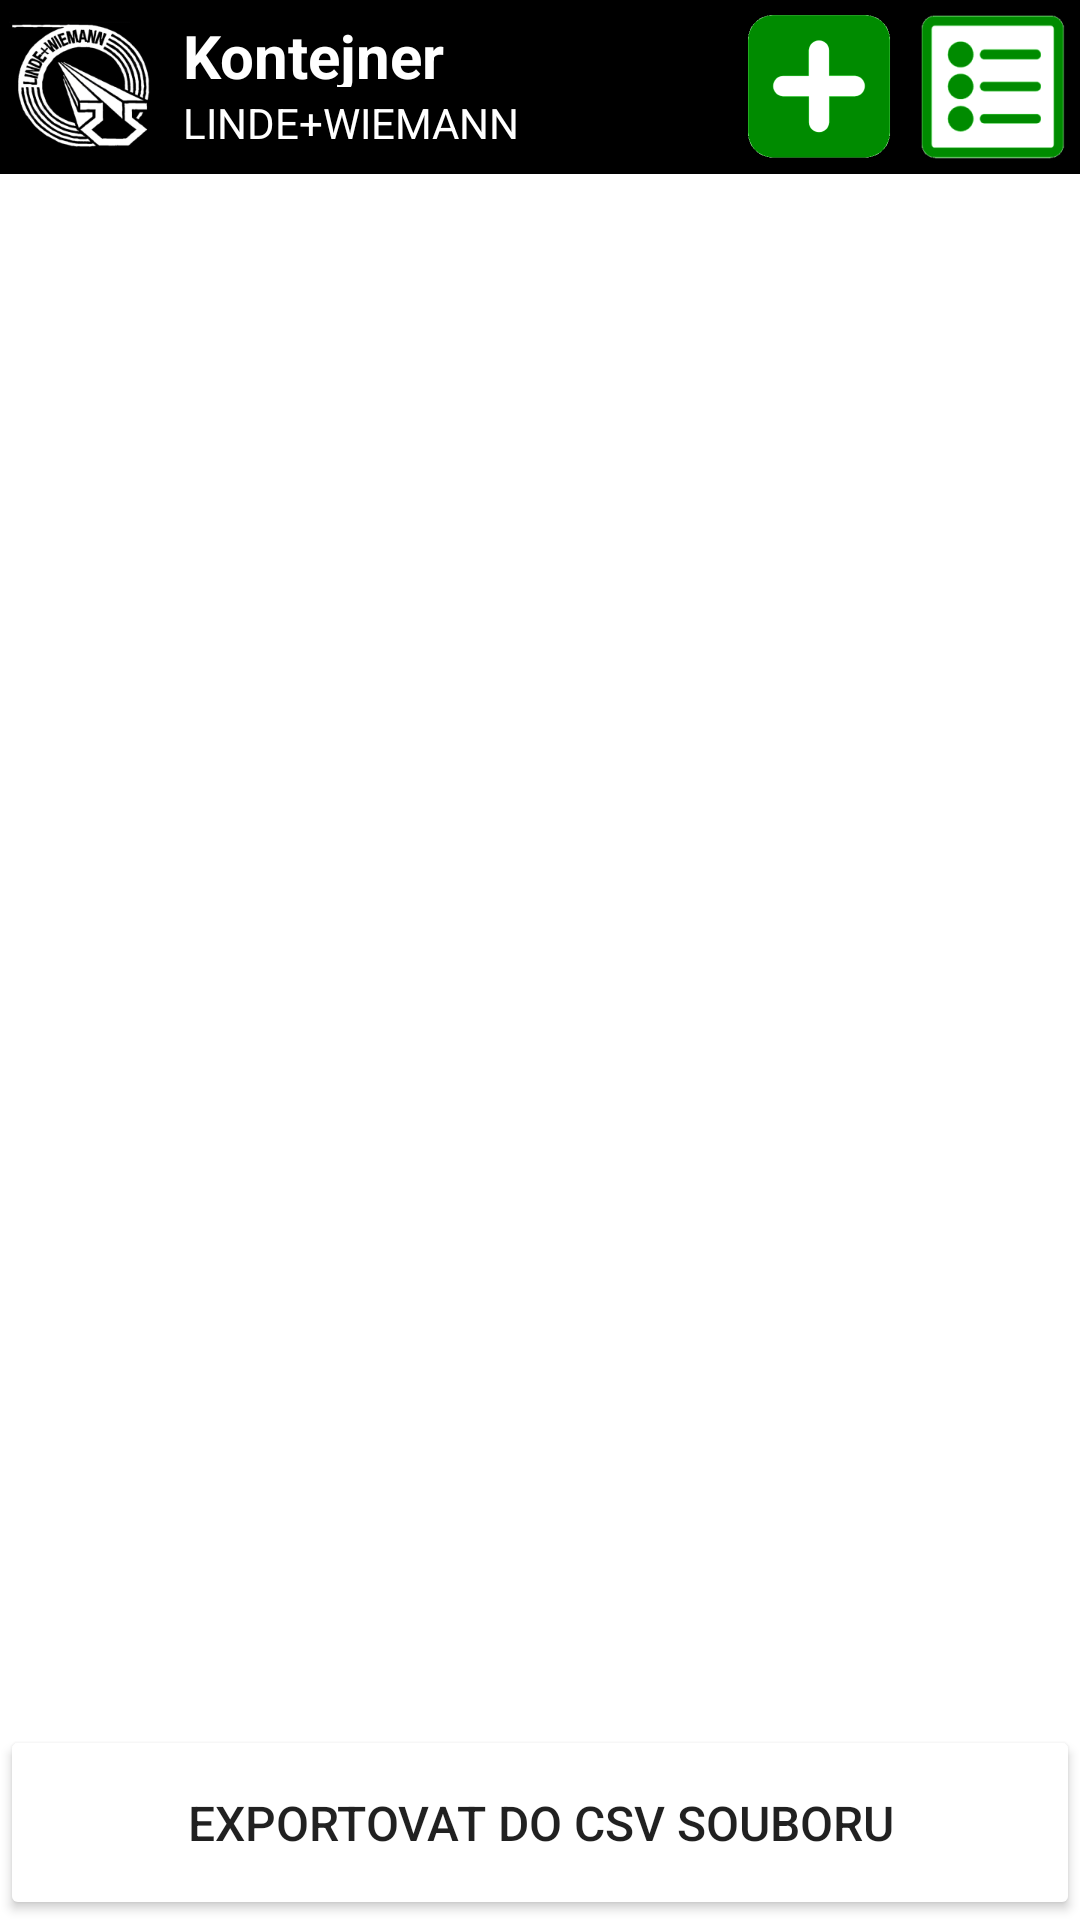

Screen size 1080 × 1920. Icon name, then its center in pixels as [x,y]:
Přidat vadný díl: [819,86]
Seznam dílů: [992,87]
